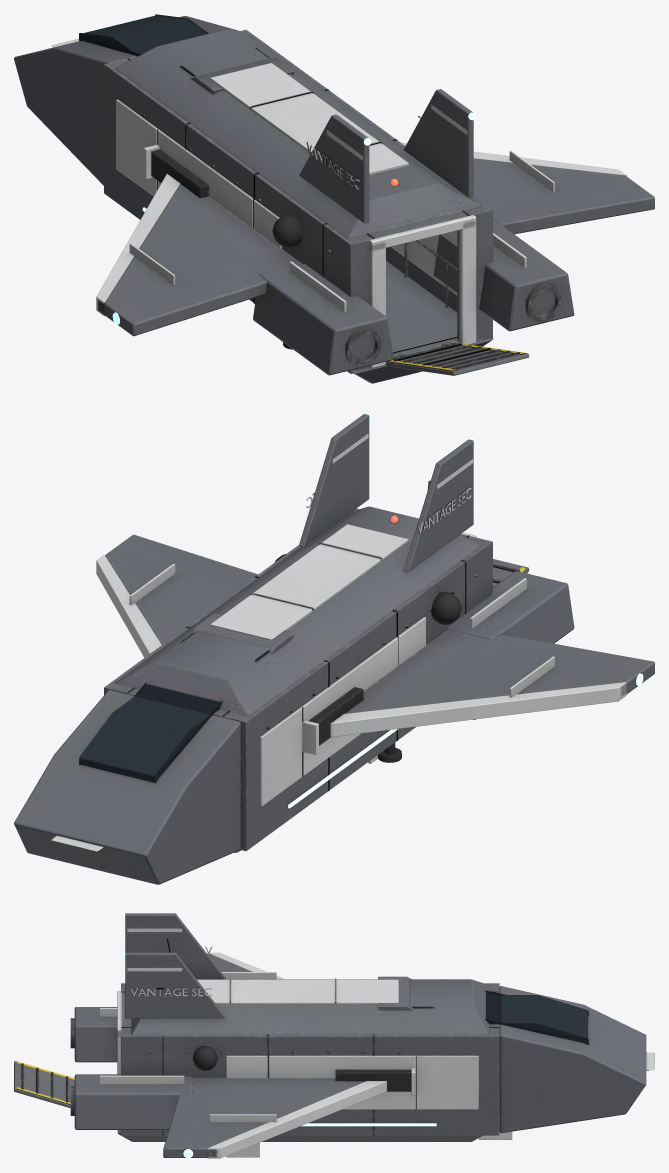
File: vantage.glb
3 views of the same model, one above another, from view 1: azimuth 30°, elevation 25°; view 2: azimuth 150°, elevation 25°; view 3: azimuth 270°, elevation 25° (orthographic). The views are drawn at different scales.
Visible parts, largest first — view 1: hull, glass, ramp.001; view 2: hull, glass, lights; view 3: hull, glass, ramp.001, lights.
Part boxes in pixels (x1,y1,x2,y2): hull: (14, 16, 654, 383); glass: (79, 14, 269, 76); ramp.001: (386, 343, 529, 375); hull: (14, 414, 654, 884); glass: (79, 632, 269, 783); lights: (114, 412, 643, 808); hull: (70, 913, 654, 1158); glass: (412, 990, 588, 1045); ramp.001: (14, 1061, 74, 1108); lights: (123, 913, 436, 1158).
Size of the model in its own units: 11.04 by 5.32 by 15.23.
9 materials, 6 textured.
